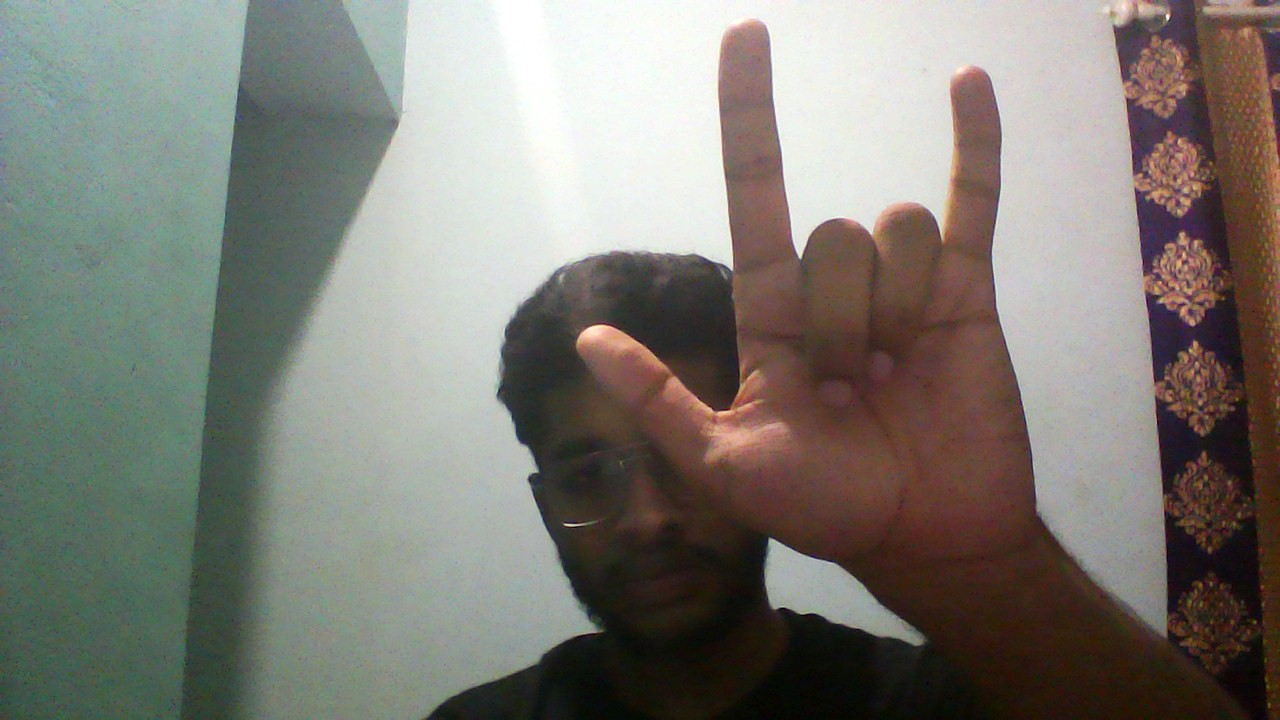I love you: (574, 13, 1039, 561)
